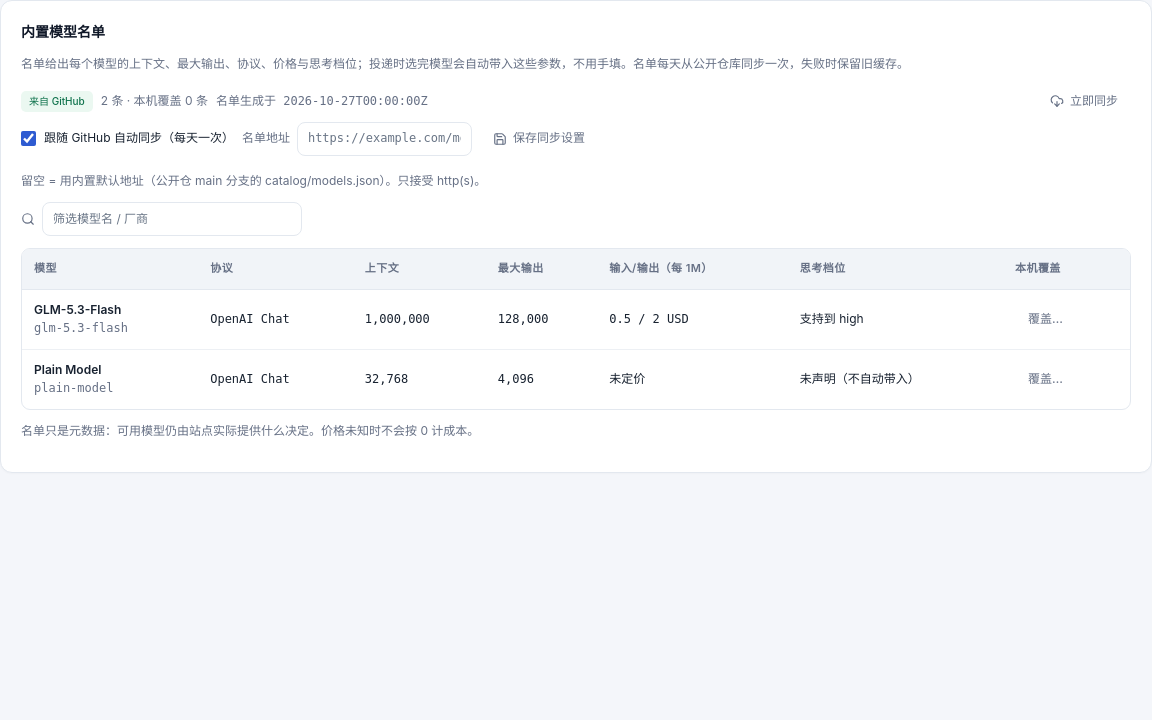
Test case: 模型名单卡（M47-S2） › ② 同步失败只报错，不清空表格
Expected: the text "GLM-5.3-Flash" is shown, [34, 300, 121, 319]
Click the button "立即同步" at (1084, 101), box [1037, 85, 1131, 117]
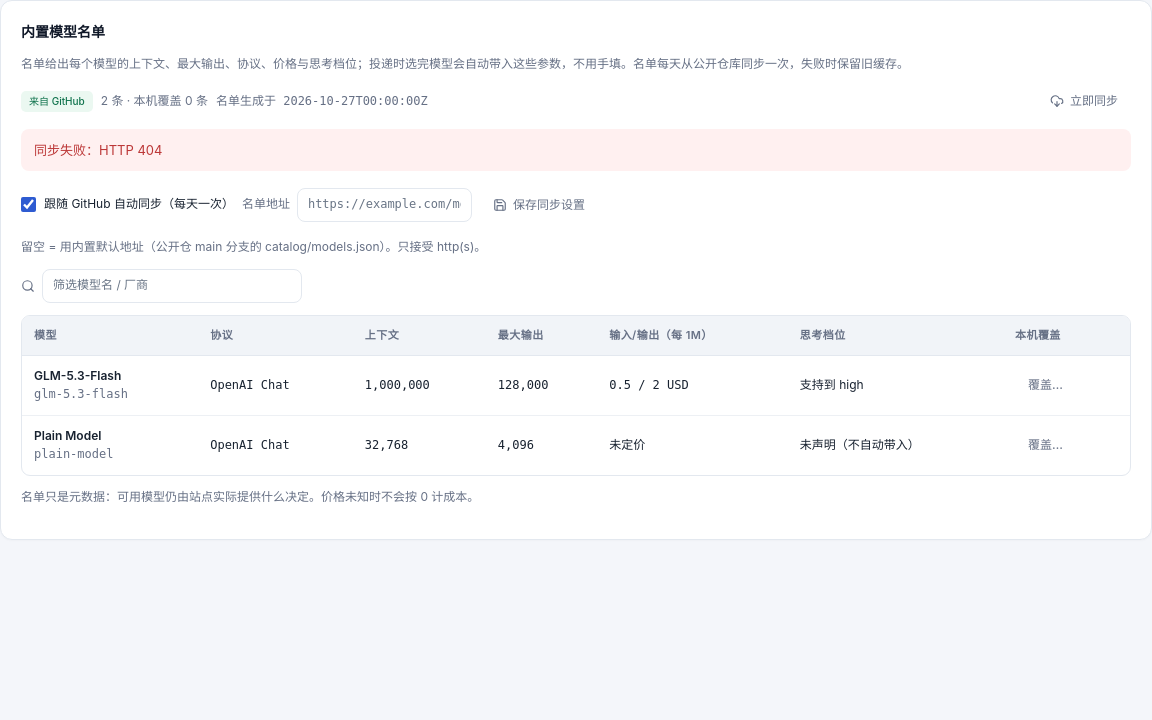
Expected: the text "GLM-5.3-Flash" is shown, [34, 367, 121, 385]
Now the message shows "HTTP 404", box [34, 142, 162, 158]
